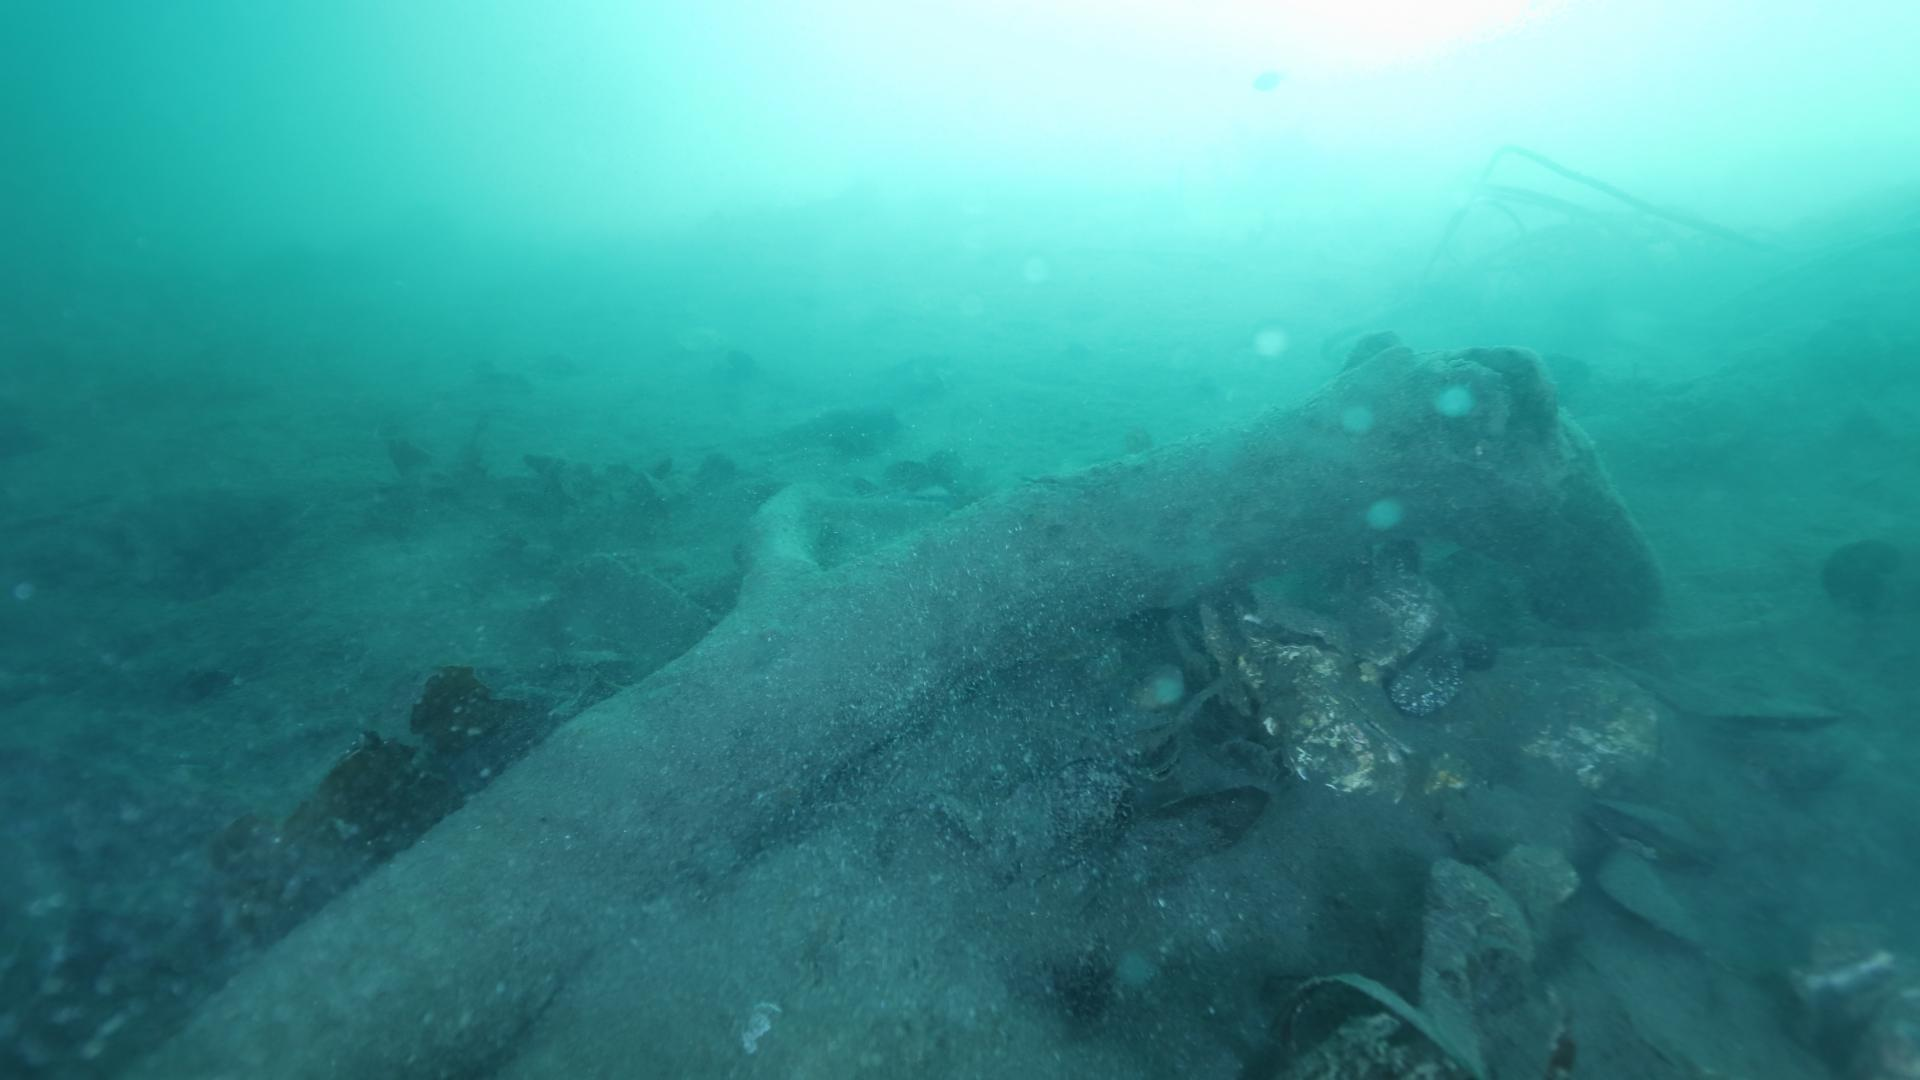wood: (119, 332, 1557, 1080)
